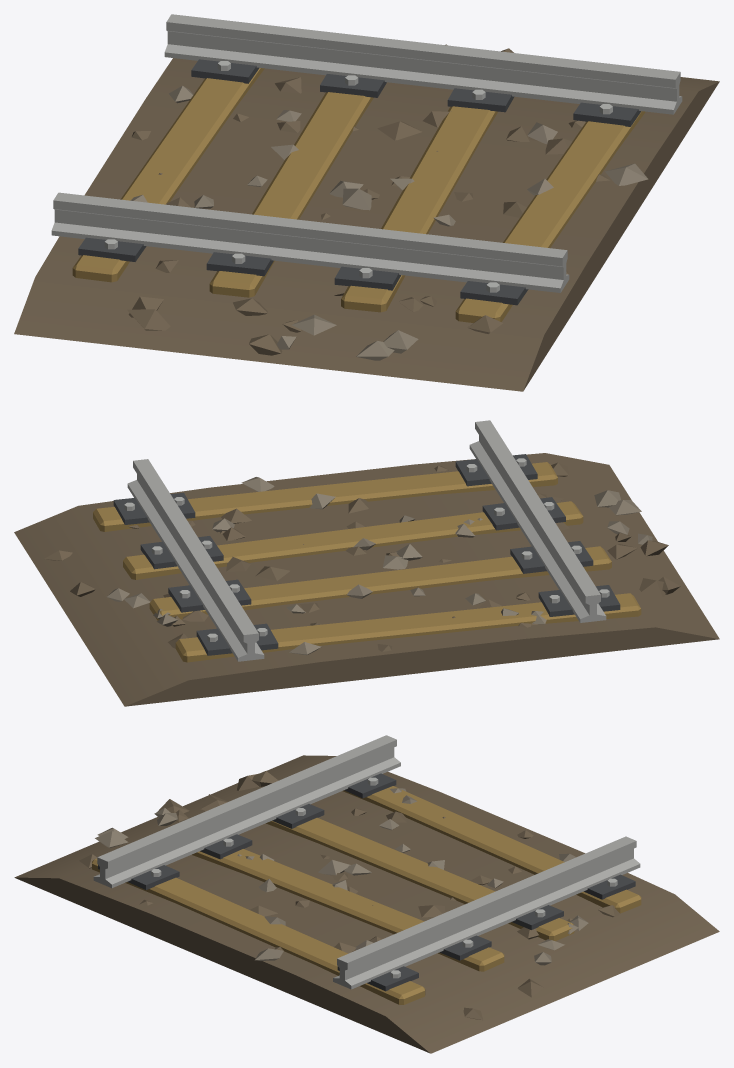
Rendered from legacy-straight-rail-ne.glb.
3 renders of one model, top to bottom at view 1: azimuth 30°, elevation 25°; view 2: azimuth 150°, elevation 25°; view 3: azimuth 270°, elevation 25°, orthographic. The views are drawn at different scales.
Visible parts, largest first — view 1: body; view 2: body; view 3: body.
Part boxes in pixels (x1,y1,x2,y2): body: [14, 14, 719, 391]; body: [14, 420, 719, 706]; body: [14, 735, 719, 1053].
Bounding box in the file's own units: 2.44 × 0.2181 × 2.44.
